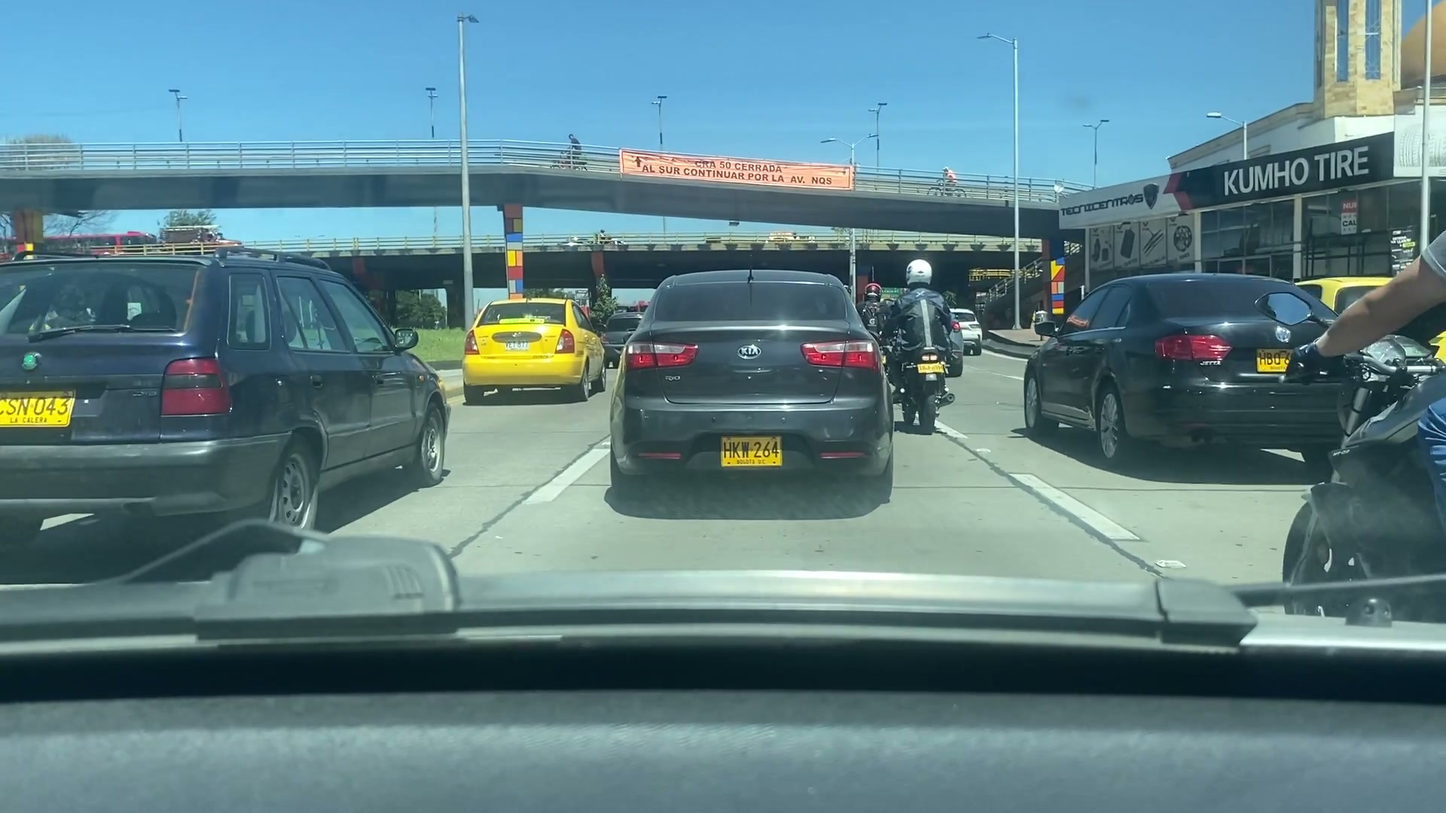bicycle: (922, 179, 974, 197)
car: (0, 251, 454, 533), (609, 266, 894, 499), (1018, 269, 1370, 452), (460, 297, 609, 402), (599, 309, 652, 367), (939, 308, 986, 356)
motorcycle: (889, 348, 958, 432)
person: (887, 259, 956, 385)
